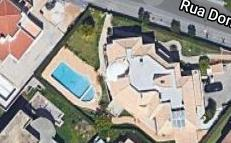pool: (50, 60, 96, 102)
